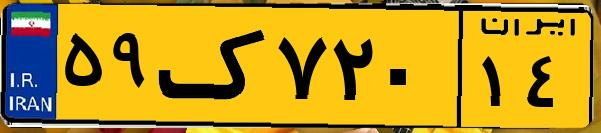0: (385, 28, 445, 110)
1: (475, 38, 525, 113)
2: (330, 28, 385, 110)
4: (525, 38, 570, 115)
5: (57, 26, 110, 100)
7: (270, 28, 330, 110)
9: (110, 28, 158, 98)
ک: (158, 12, 270, 120)
